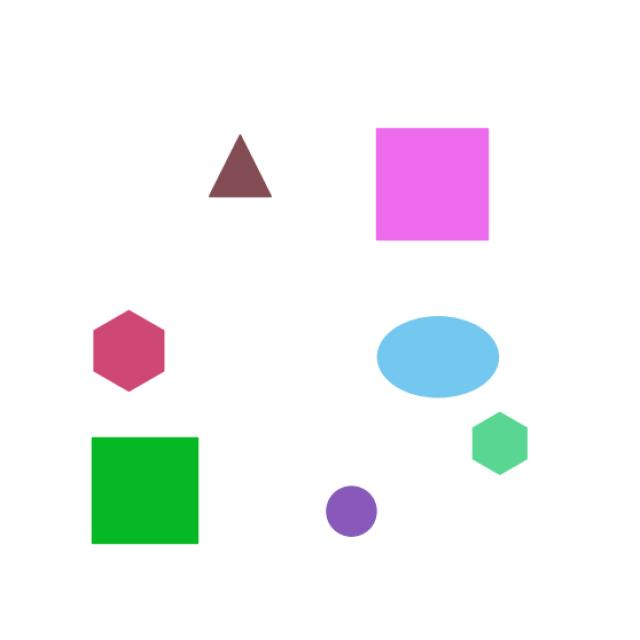Circle: (320, 481, 407, 557)
Hexagon: (84, 291, 178, 395), (460, 405, 538, 485)
Oval: (362, 299, 530, 412)
Triangle: (198, 132, 305, 208)
square: (358, 112, 501, 253), (80, 425, 221, 560)
